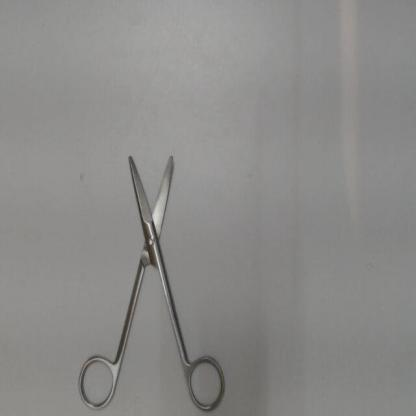Curved Mayo Scissors: (73, 148, 233, 414)
